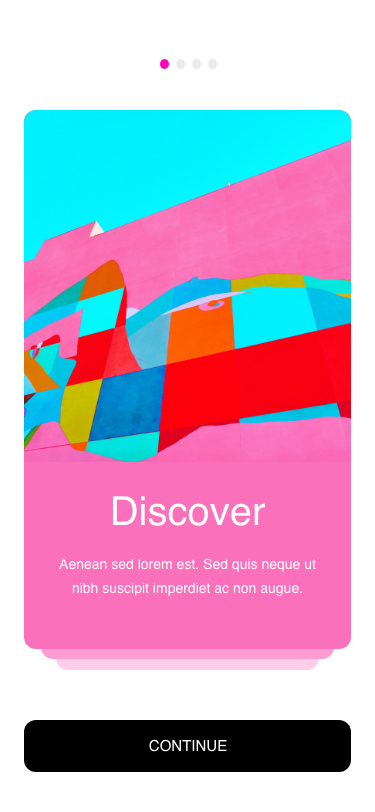Image: (25, 110, 351, 464)
PageIndicator: (160, 59, 218, 71)
Text: (59, 559, 317, 597), (113, 496, 266, 527)
TextButton: (24, 720, 351, 773)
